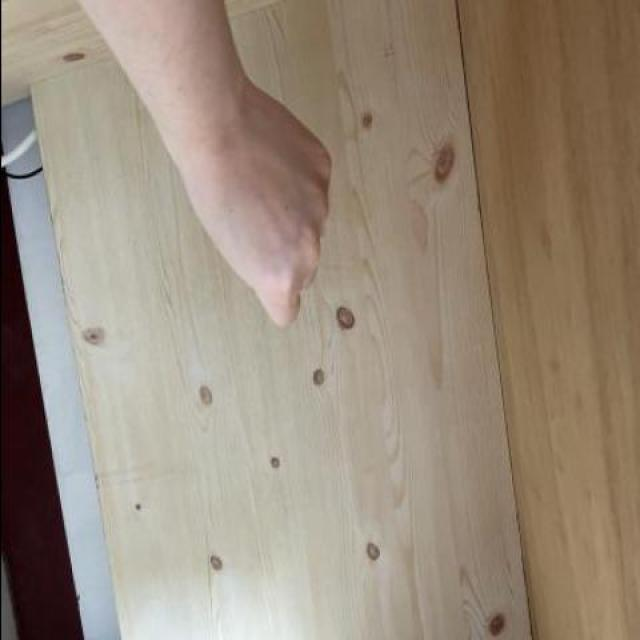Closed Hand: (178, 81, 338, 331)
